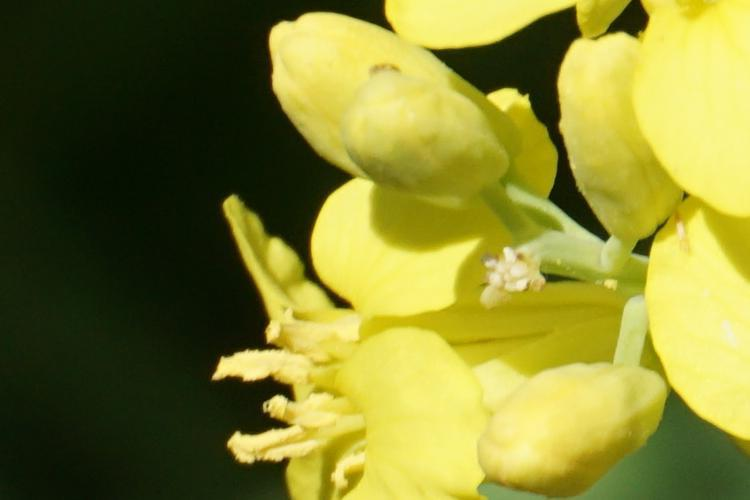bud: (552, 38, 691, 257), (485, 338, 667, 492), (344, 77, 513, 209)
yellow: (202, 210, 663, 492)
